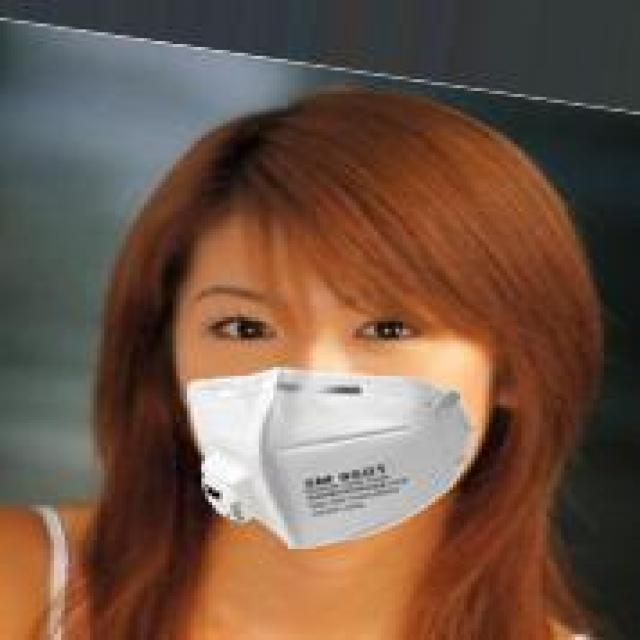mask: (104, 59, 576, 587)
